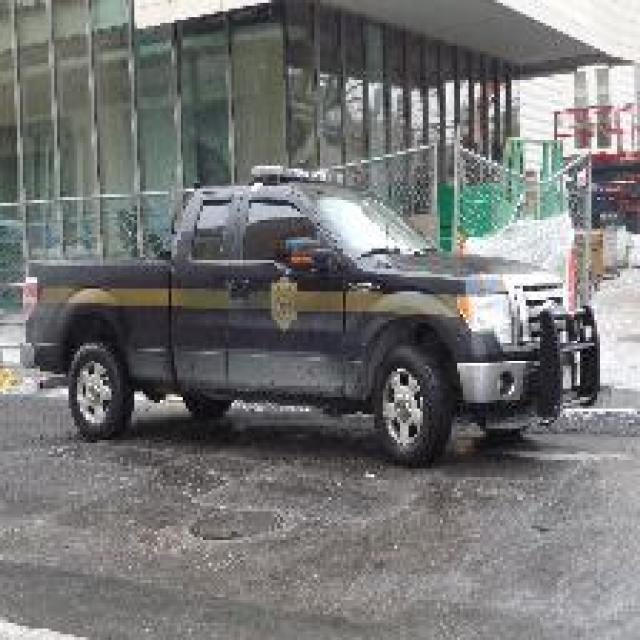emergency: (19, 166, 600, 470)
